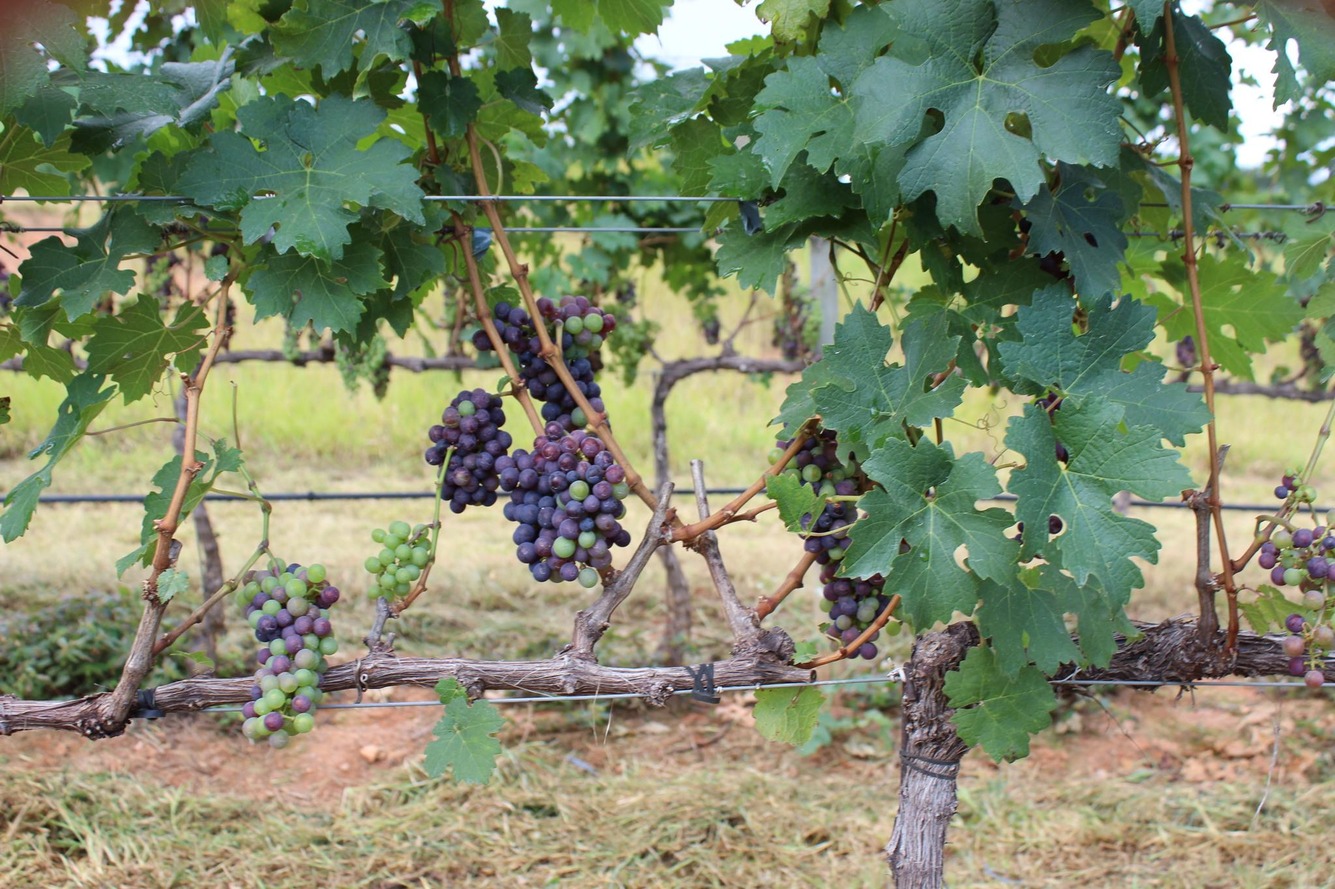Grape Ripe: (497, 421, 630, 581), (424, 389, 511, 513), (494, 303, 581, 423), (536, 296, 615, 415)
Grape Unripe: (794, 431, 891, 646), (233, 562, 329, 752), (1248, 512, 1335, 594), (364, 509, 436, 602)
